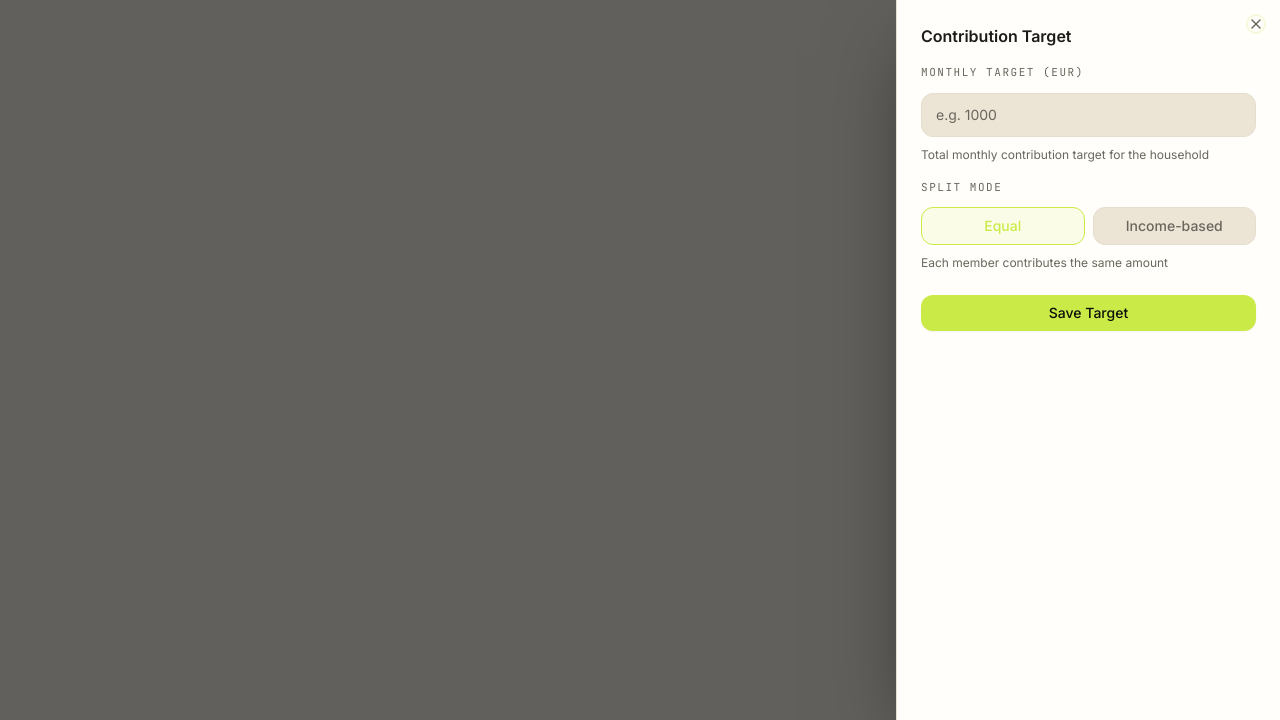
<JointAccountConfigDialog /> › warns when income-based is selected while a member has no income on file
Expected: the text "waiting on income" is not shown
Click the button "Income-based".
click(1174, 226)  # box left=1092, top=207, right=1256, bottom=245
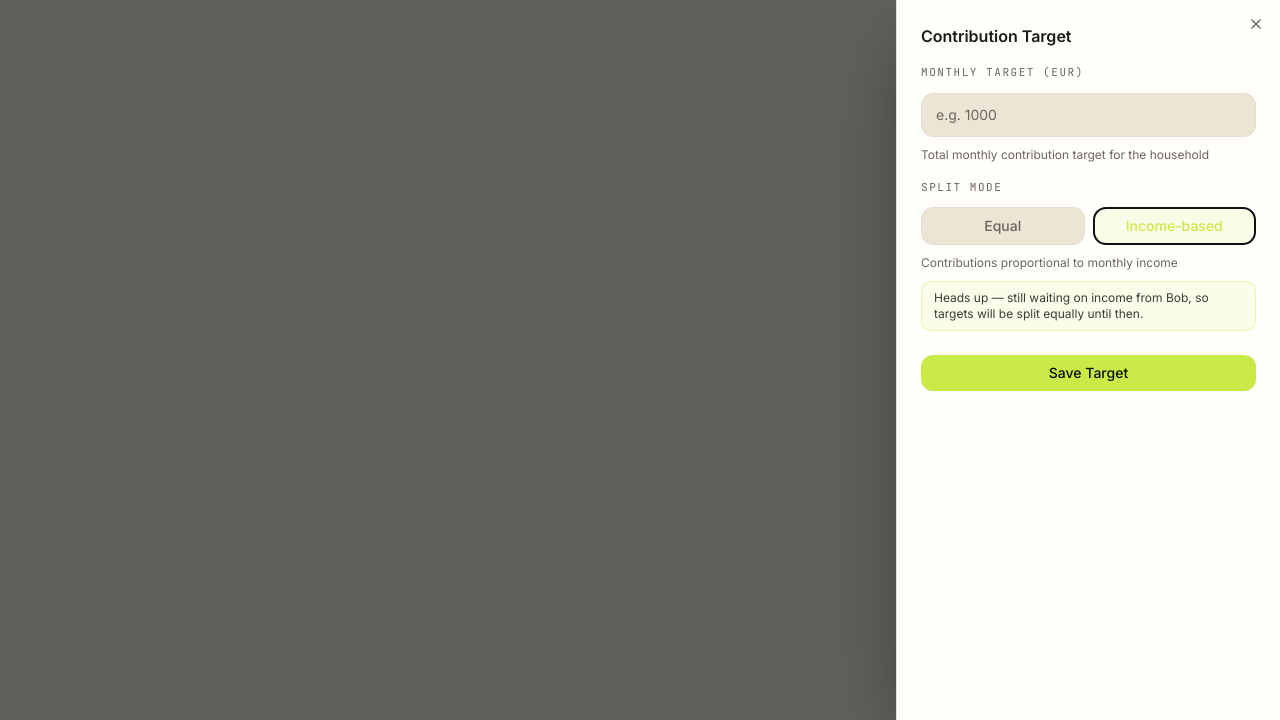
Expected: the text "waiting on income" is shown, left=934, top=290, right=1166, bottom=305
Expected: the text "waiting on income" shows "Bob", left=1166, top=290, right=1188, bottom=305
